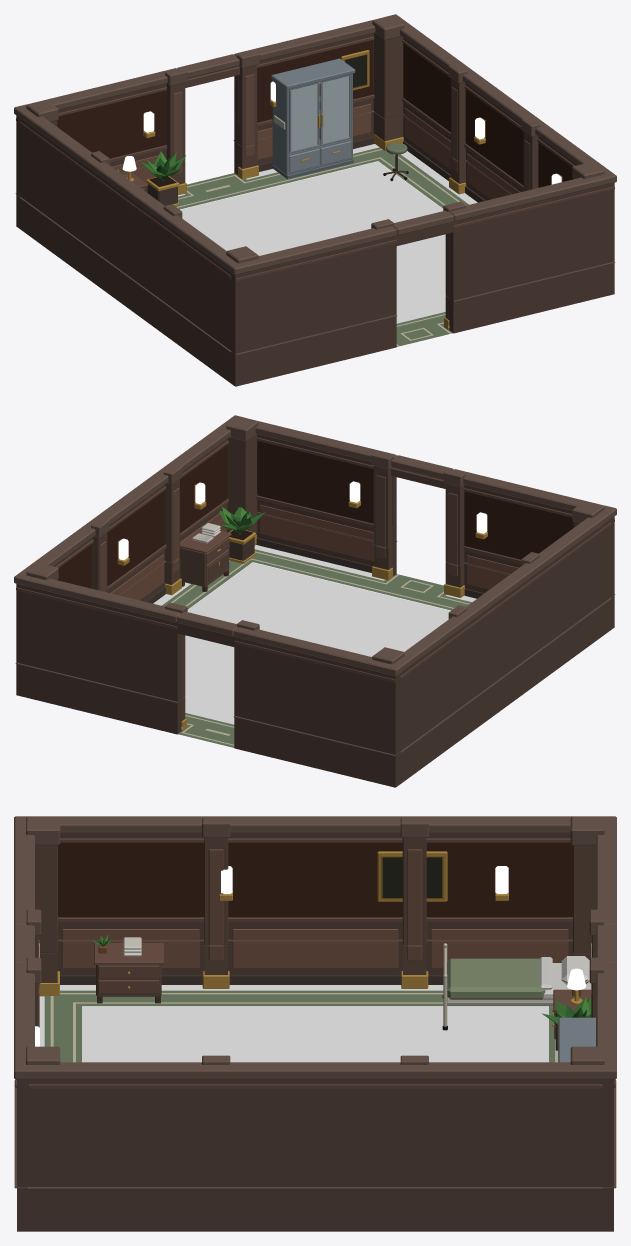
Rendered from infirmary2.glb.
3 views of the same model, one above another, from view 1: azimuth 30°, elevation 25°; view 2: azimuth 150°, elevation 25°; view 3: azimuth 270°, elevation 25° (orthographic). The views are drawn at different scales.
Parts seen in each view (by area): view 1: static, floor, W_west_0_up, W_south_0_up, W_south_1_up, W_east_0_up, W_north_0_up, W_north_1_up; view 2: static, floor, W_west_0_up, W_north_0_up, W_north_1_up, W_south_1_up, W_east_0_up, W_south_0_up; view 3: W_east_0_up, W_west_0_up, static, floor, W_north_0_up, W_south_0_up, W_south_1_up, W_north_1_up.
Part boxes in pixels (bbox=[...]): static: bbox=[15, 58, 615, 386]; floor: bbox=[175, 144, 477, 346]; W_west_0_up: bbox=[14, 104, 246, 350]; W_south_0_up: bbox=[226, 210, 453, 353]; W_south_1_up: bbox=[443, 162, 616, 300]; W_east_0_up: bbox=[385, 14, 616, 194]; W_north_0_up: bbox=[14, 54, 239, 196]; W_north_1_up: bbox=[234, 15, 404, 146]; static: bbox=[15, 493, 615, 787]; floor: bbox=[153, 545, 476, 747]; W_west_0_up: bbox=[384, 505, 616, 751]; W_north_0_up: bbox=[177, 611, 404, 754]; W_north_1_up: bbox=[14, 563, 187, 701]; W_south_1_up: bbox=[226, 416, 396, 547]; W_east_0_up: bbox=[14, 415, 245, 595]; W_south_0_up: bbox=[391, 455, 616, 597]; W_east_0_up: bbox=[14, 1055, 616, 1186]; W_west_0_up: bbox=[14, 816, 616, 945]; static: bbox=[14, 935, 616, 1231]; floor: bbox=[39, 985, 558, 1062]; W_north_0_up: bbox=[570, 816, 616, 987]; W_south_0_up: bbox=[14, 816, 60, 987]; W_south_1_up: bbox=[14, 957, 60, 1186]; W_north_1_up: bbox=[570, 957, 616, 1186].
Bounding box in the file's own units: 8.08 × 2.48 × 8.08.
